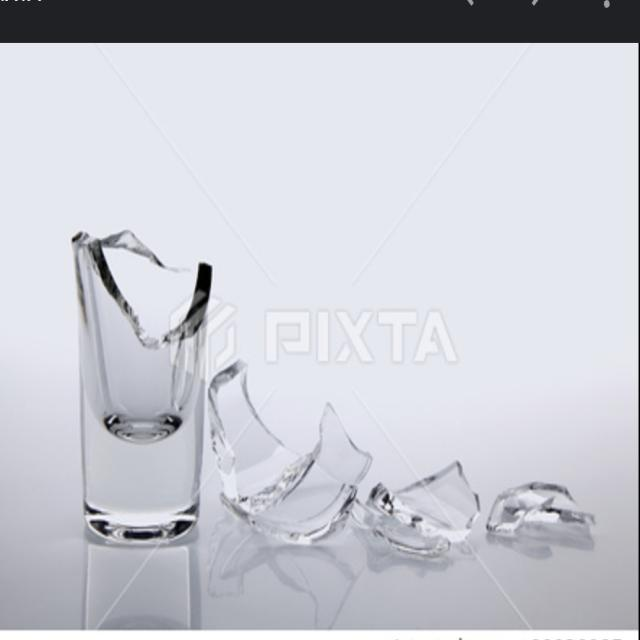PecahanKaca: (69, 226, 596, 560), (69, 226, 214, 544), (484, 478, 596, 547)
